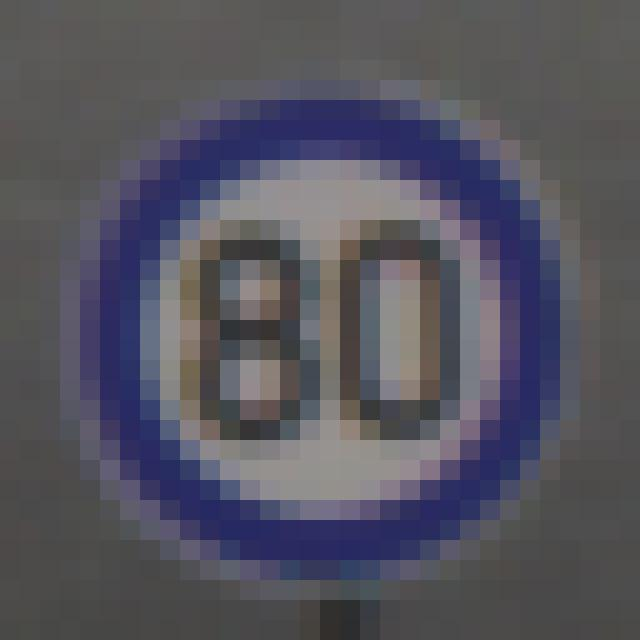SPEED-LIMIT-80: (73, 67, 581, 576)
